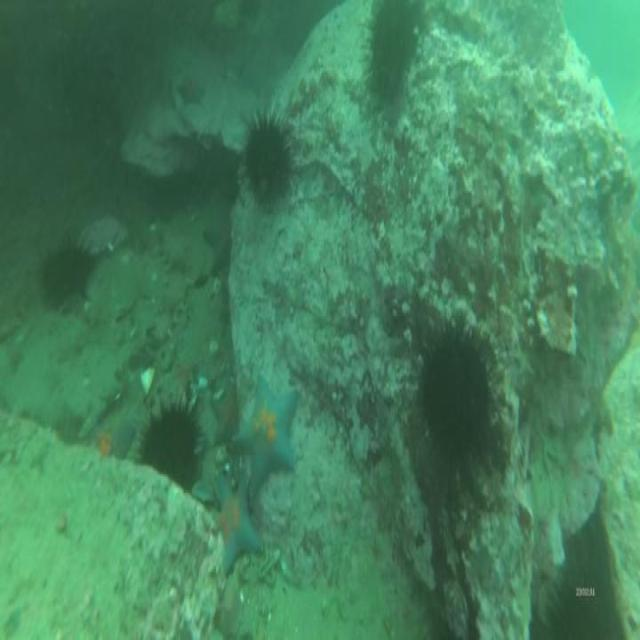echinus: (421, 335, 491, 457), (140, 409, 198, 485), (372, 1, 415, 100), (247, 118, 291, 204), (558, 570, 612, 640), (44, 250, 94, 296)
starfish: (234, 373, 300, 488), (212, 479, 262, 578), (203, 213, 230, 270), (212, 389, 239, 442), (92, 427, 134, 458), (177, 71, 204, 109)
